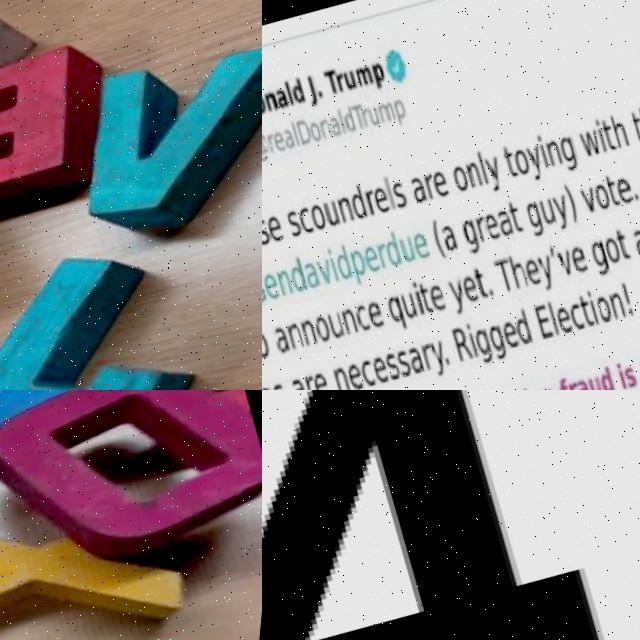A: (411, 339, 438, 374), (411, 169, 437, 204), (305, 257, 330, 290), (498, 202, 523, 234), (277, 322, 301, 354), (443, 218, 466, 249), (329, 110, 350, 138), (274, 84, 295, 110), (581, 368, 602, 390), (296, 373, 320, 390), (285, 126, 301, 149), (263, 381, 288, 390), (635, 216, 640, 248)
C: (300, 201, 324, 235), (364, 353, 387, 385), (572, 292, 595, 324), (359, 299, 382, 330)
D: (383, 225, 412, 267), (335, 239, 364, 280), (516, 299, 545, 340), (348, 179, 377, 219), (291, 253, 317, 292), (602, 353, 627, 387), (289, 73, 312, 105), (296, 116, 318, 144), (343, 102, 362, 131)
E: (536, 294, 565, 334), (431, 160, 458, 195), (268, 210, 294, 245), (558, 295, 584, 330), (266, 269, 292, 303), (370, 295, 396, 329), (350, 356, 376, 390), (373, 179, 399, 212), (414, 225, 440, 258), (505, 311, 531, 344), (432, 276, 457, 309), (465, 268, 490, 301), (572, 235, 597, 268), (376, 349, 401, 382), (485, 205, 510, 237), (526, 248, 551, 280), (367, 241, 390, 272), (617, 166, 640, 197), (316, 365, 343, 390), (275, 128, 294, 152), (262, 218, 269, 251)
F: (563, 367, 583, 390)
G: (558, 125, 587, 167), (461, 211, 490, 252), (490, 316, 519, 357), (525, 191, 554, 232), (592, 229, 620, 270), (478, 319, 506, 360)
H: (609, 102, 636, 141), (511, 244, 537, 284)
I: (415, 276, 435, 313), (537, 125, 556, 162), (595, 110, 614, 146), (590, 281, 609, 317), (331, 243, 349, 280), (471, 317, 489, 353), (621, 353, 639, 382), (529, 379, 544, 390)
J: (305, 73, 323, 104)
L: (386, 170, 404, 206), (551, 292, 569, 328), (479, 144, 497, 179), (284, 77, 302, 106), (291, 119, 305, 145), (339, 106, 352, 132)
M: (354, 59, 379, 85), (379, 96, 401, 121)
N: (345, 302, 369, 333), (339, 191, 362, 222), (468, 154, 491, 185), (291, 318, 314, 349), (613, 281, 636, 312), (547, 131, 570, 161), (279, 266, 302, 296), (305, 315, 328, 345), (338, 361, 361, 390), (265, 88, 284, 112), (321, 115, 338, 138), (547, 378, 568, 390)
O: (0, 390, 262, 603), (452, 157, 478, 190), (598, 284, 623, 317), (318, 310, 343, 342), (311, 199, 335, 230), (514, 140, 538, 171), (595, 173, 619, 204), (606, 226, 630, 257), (262, 326, 281, 360), (311, 118, 327, 141), (262, 91, 273, 116), (536, 381, 556, 390)
P: (353, 246, 379, 282), (371, 56, 394, 87), (395, 94, 414, 122)
Q: (389, 289, 419, 331)
R: (455, 317, 484, 357), (380, 236, 400, 267), (426, 337, 446, 367), (367, 185, 386, 214), (427, 168, 446, 196), (479, 210, 496, 236), (362, 103, 377, 126), (311, 371, 328, 390), (269, 131, 283, 154), (572, 372, 589, 390), (338, 69, 351, 89)
S: (286, 203, 312, 238), (399, 342, 424, 375), (388, 346, 411, 378), (392, 176, 415, 207), (262, 214, 279, 246), (262, 272, 277, 303), (628, 354, 640, 381), (277, 378, 301, 390)
T: (496, 249, 526, 290), (503, 137, 526, 175), (581, 283, 604, 321), (605, 163, 628, 200), (509, 191, 531, 229), (476, 260, 498, 294), (618, 218, 639, 252), (323, 64, 346, 95), (352, 98, 375, 129), (603, 111, 623, 144), (422, 277, 442, 309), (630, 100, 640, 134), (262, 326, 269, 361), (520, 381, 540, 390)
U: (325, 196, 349, 227), (540, 188, 563, 220), (402, 230, 425, 261), (332, 306, 355, 337), (404, 286, 428, 315), (592, 365, 614, 390), (343, 64, 364, 90), (369, 101, 385, 124)
V: (33, 4, 262, 258), (319, 253, 344, 286), (582, 177, 606, 208), (559, 240, 583, 271)
W: (579, 119, 608, 152)
Y: (539, 245, 569, 287), (525, 135, 554, 176), (450, 272, 479, 313), (433, 334, 462, 375), (486, 148, 514, 189), (554, 184, 582, 225)
